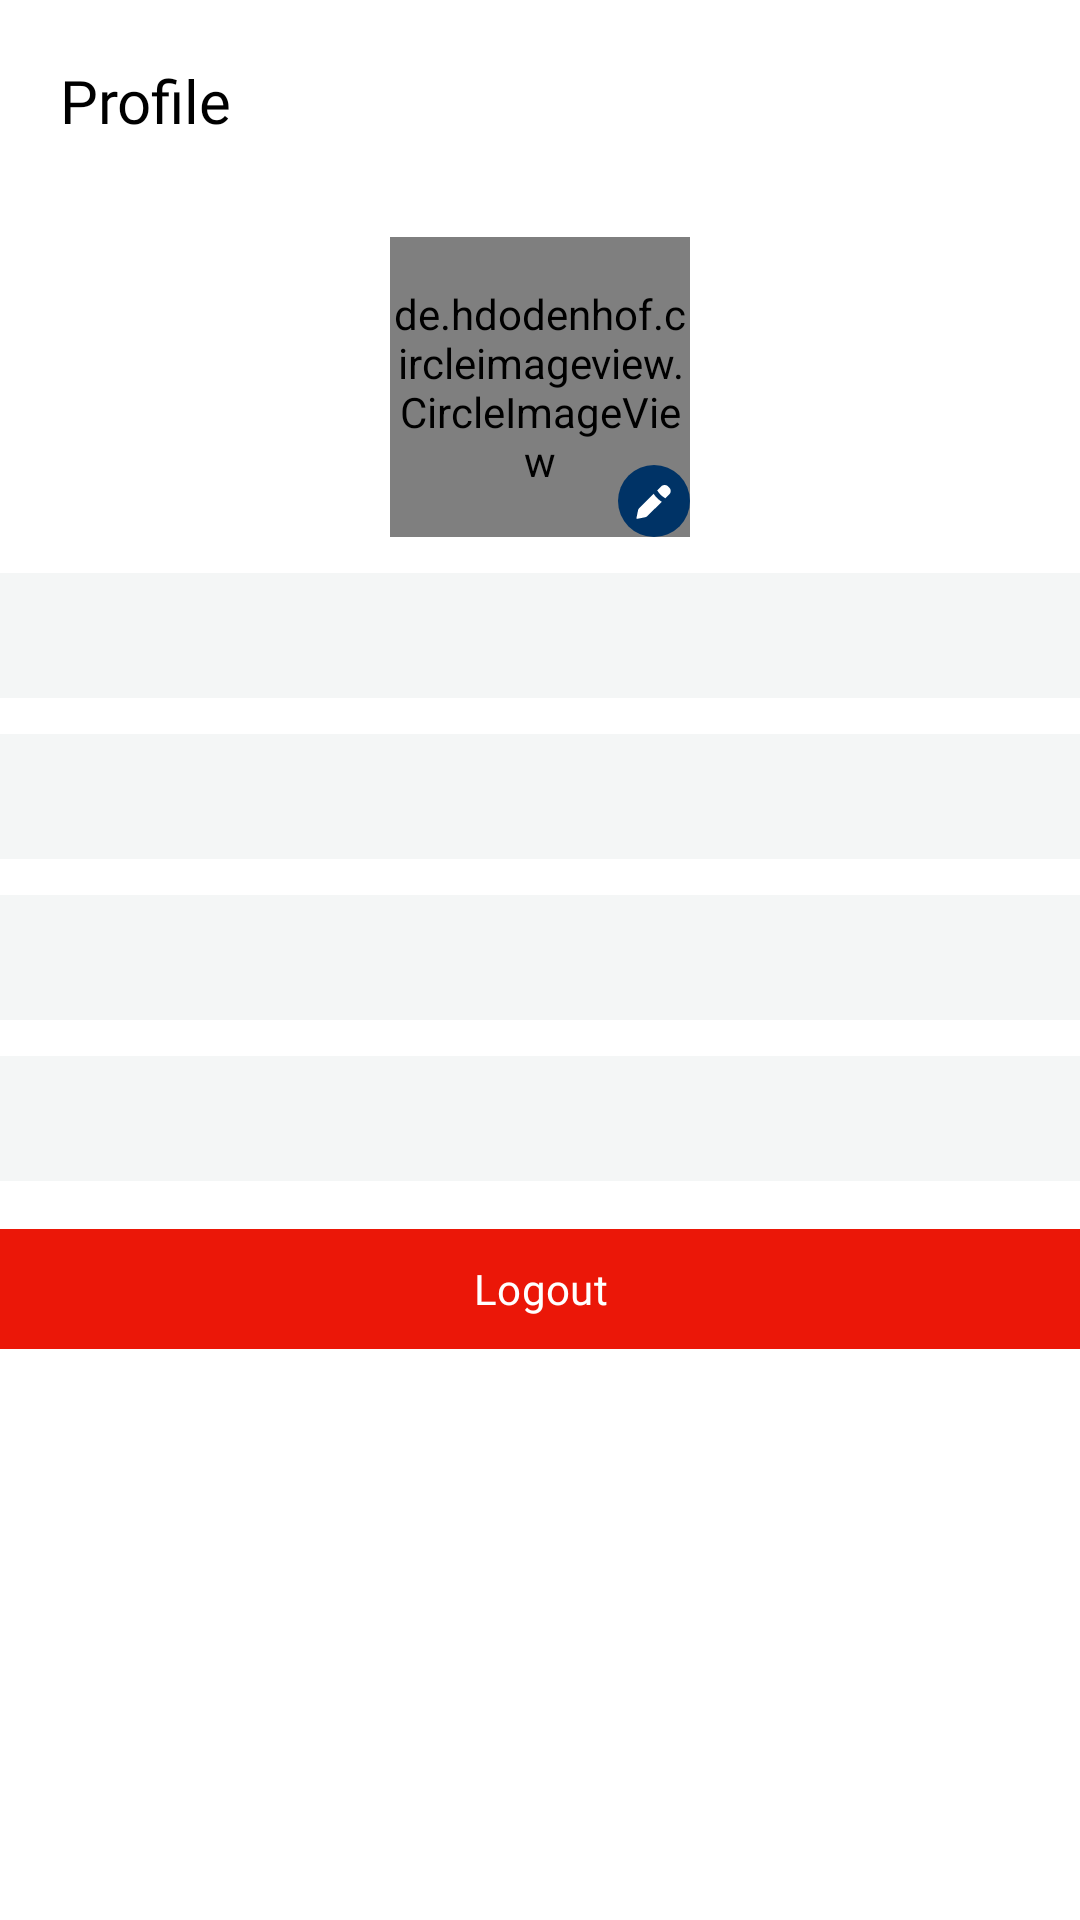

Point at icon controls on the screen. Image size 1080 × 1920, points as (x=x, y=y).
edit: (x=654, y=501)
